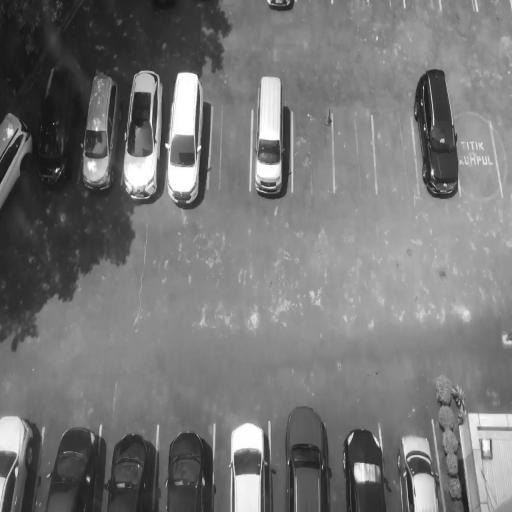Car: (412, 66, 461, 204), (43, 413, 104, 510), (166, 61, 206, 205), (122, 67, 162, 204), (287, 392, 332, 512), (35, 57, 73, 189), (252, 68, 288, 203), (167, 418, 218, 512), (82, 64, 117, 196), (0, 410, 44, 512), (229, 414, 273, 512), (395, 426, 445, 510), (108, 420, 156, 504), (344, 420, 389, 508), (264, 0, 301, 18)
Space Available: (458, 99, 501, 201), (212, 90, 250, 205), (373, 106, 418, 198), (293, 101, 333, 195), (333, 114, 373, 198), (402, 0, 443, 23), (297, 0, 333, 21), (331, 0, 369, 18), (442, 0, 482, 17), (477, 0, 510, 18)
